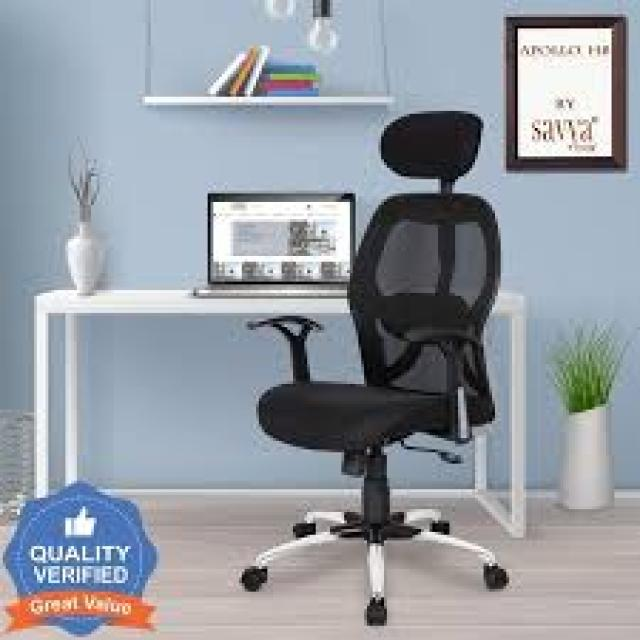chair: (182, 97, 557, 640)
